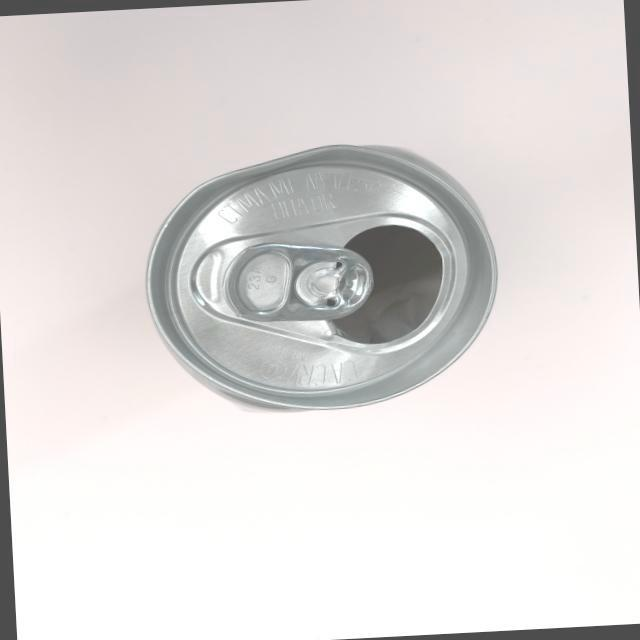metal: (137, 133, 510, 429)
